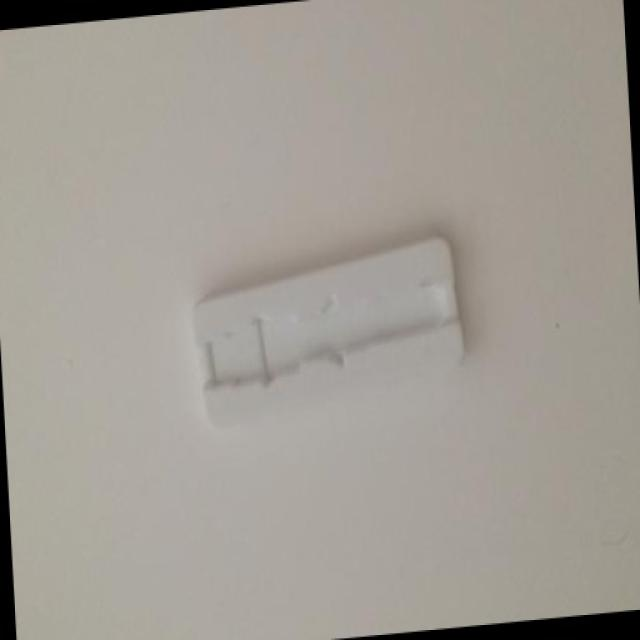plastico: (178, 218, 499, 456)
